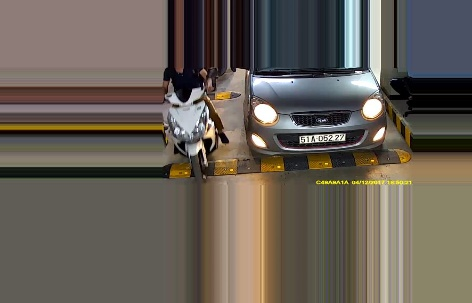plate: (300, 133, 345, 144)
